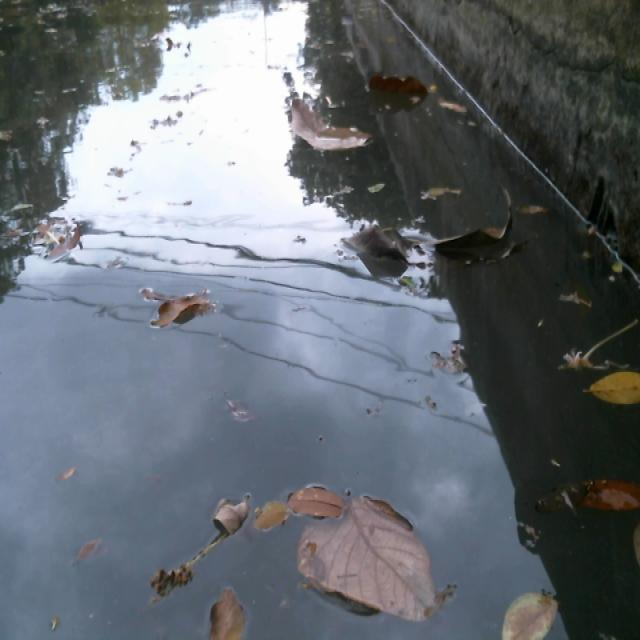Big-leaf: (308, 498, 442, 623), (534, 466, 640, 527), (286, 93, 376, 156), (431, 216, 520, 259), (342, 230, 409, 271), (368, 67, 432, 104)
Small-leaf: (152, 537, 223, 593), (566, 315, 638, 368), (496, 588, 561, 640), (149, 290, 219, 335), (207, 585, 253, 640), (428, 334, 478, 383), (588, 368, 640, 406), (291, 482, 339, 518), (213, 492, 250, 534), (255, 495, 292, 532), (50, 229, 86, 262), (422, 181, 468, 206), (70, 536, 108, 565), (560, 286, 595, 314), (224, 394, 256, 424), (516, 196, 551, 219), (440, 94, 469, 118), (58, 463, 83, 489), (363, 178, 389, 197)
